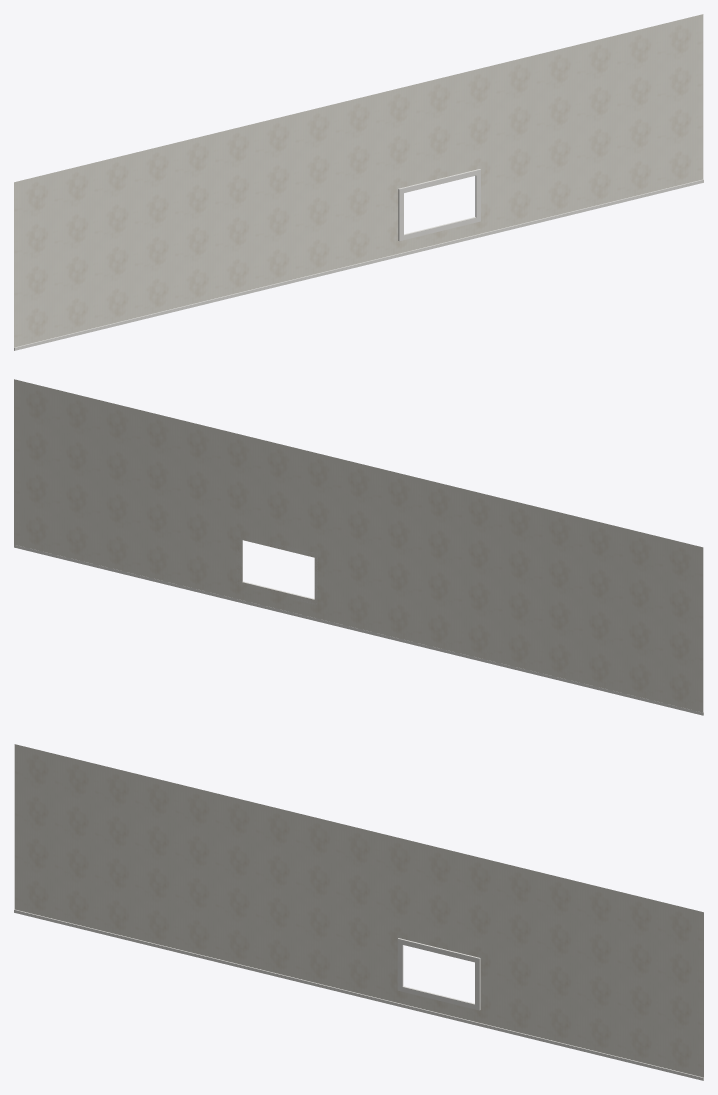
3 renders of one model, top to bottom at view 1: azimuth 30°, elevation 25°; view 2: azimuth 150°, elevation 25°; view 3: azimuth 330°, elevation 25°, orthographic.
Visible parts, largest first — view 1: jx_wm_34_bc1b3e4c; view 2: jx_wm_34_bc1b3e4c; view 3: jx_wm_34_bc1b3e4c.
Boxes of the visible parts, <box> form: jx_wm_34_bc1b3e4c: <box>14,14,703,350</box>; jx_wm_34_bc1b3e4c: <box>14,379,703,715</box>; jx_wm_34_bc1b3e4c: <box>14,744,703,1080</box>.
Bounding box in the file's own units: 34.3 × 8 × 0.086.
Materials: 2 (2 with a texture image).
